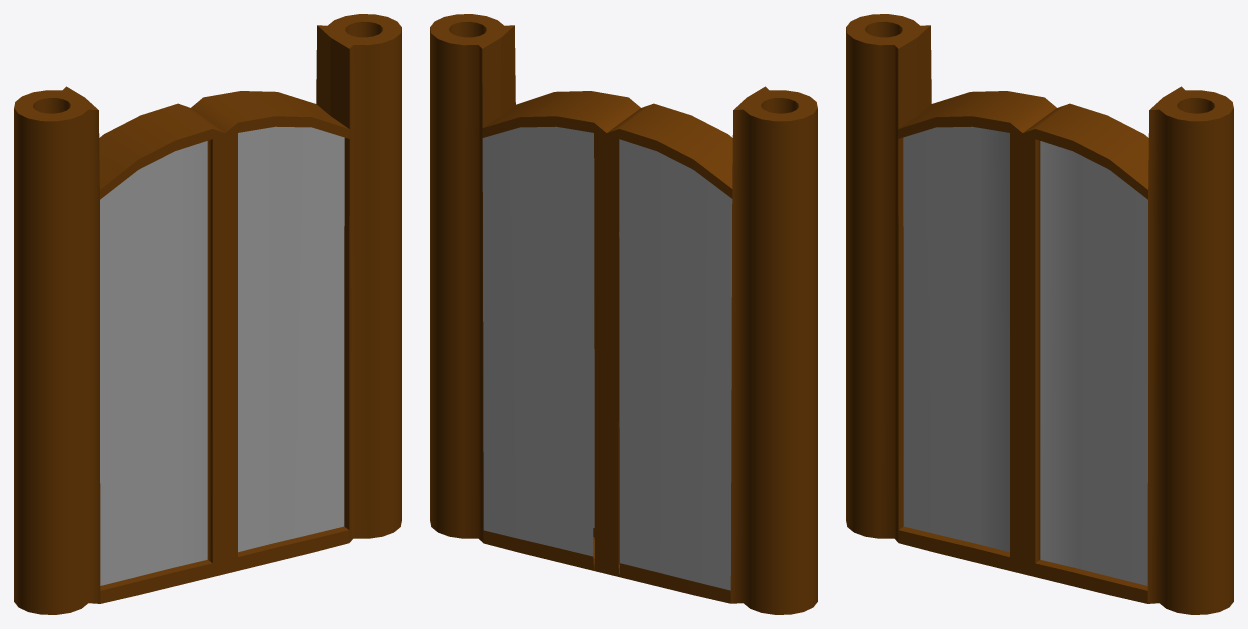
Rendered from WaterGate_No3.fbx.
The picture shows the model from 3 angles, left to right: view 1: azimuth 30°, elevation 25°; view 2: azimuth 150°, elevation 25°; view 3: azimuth 330°, elevation 25°; orthographic projection.
Visible parts, largest first — view 1: pPipe2, pPipe4; view 2: pPipe2, pPipe4; view 3: pPipe4, pPipe2.
Part boxes in pixels (bbox=[...]): pPipe2: bbox=[14, 86, 225, 614]; pPipe4: bbox=[191, 14, 401, 573]; pPipe2: bbox=[606, 86, 817, 614]; pPipe4: bbox=[430, 14, 640, 573]; pPipe4: bbox=[1022, 86, 1233, 614]; pPipe2: bbox=[846, 14, 1056, 573].
Bounding box in the file's own units: 27.87 × 34.71 × 4.71.
